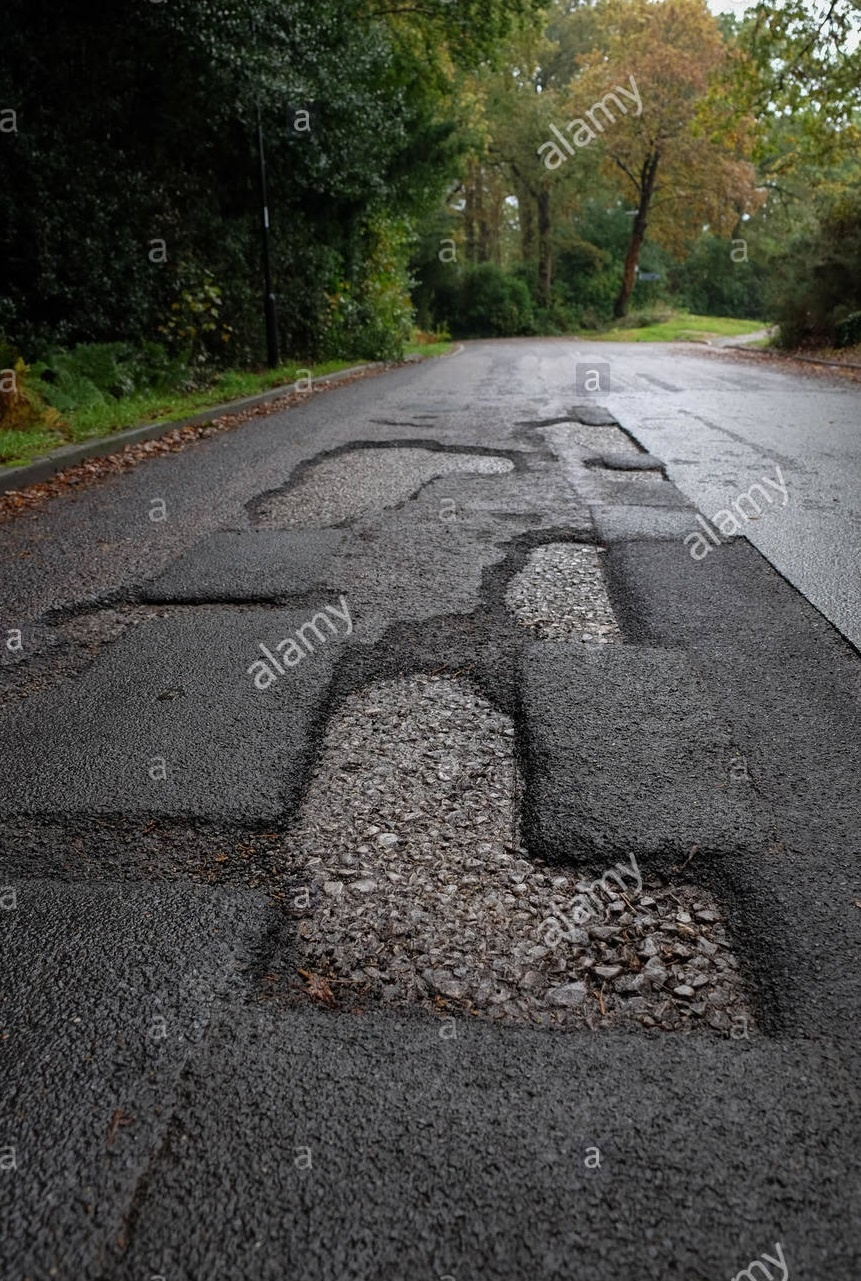pothole: (242, 598, 755, 1071), (229, 431, 630, 580), (502, 496, 651, 673), (541, 388, 715, 532)
